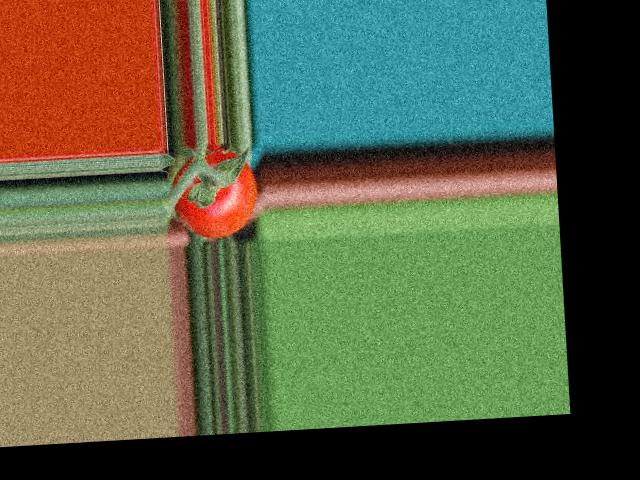tomato: (168, 143, 260, 239)
